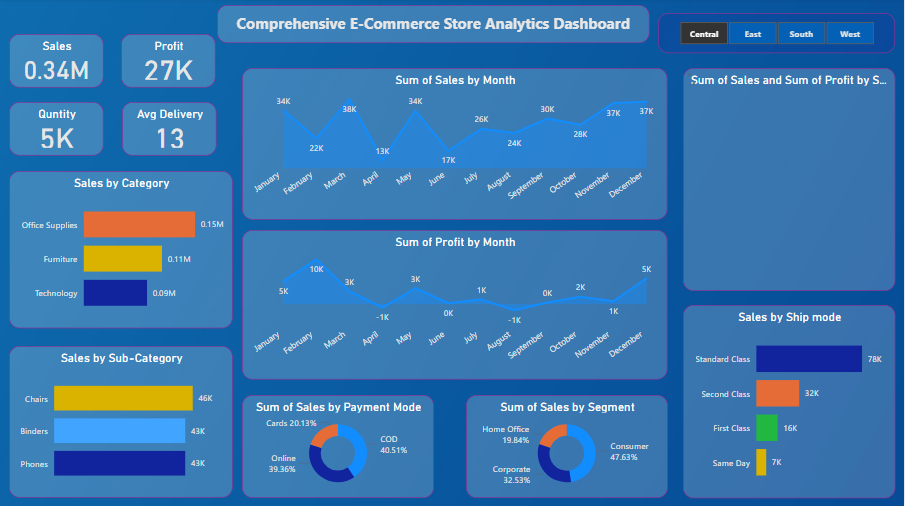

Layout of this report page (visuals, bound fields, positions):
{"tool":"powerbi","page":{"name":"Page 1","canvas":[1280,720],"ordinal":0},"visuals":[{"type":"clusteredBarChart","title":"Sales by Category","fields":{"Category":["SuperStore_Sales_Dataset.Category"],"Y":["Sum(SuperStore_Sales_Dataset.Sales)"]},"box":[13.4,245.2,317.5,223.4],"z":0},{"type":"clusteredBarChart","title":"Sales by Sub-Category","fields":{"Y":["Sum(SuperStore_Sales_Dataset.Sales)"],"Category":["SuperStore_Sales_Dataset.Sub-Category"]},"box":[13.4,493.9,317.5,215],"z":1000},{"type":"clusteredBarChart","title":"Sales by Ship mode","fields":{"Y":["Sum(SuperStore_Sales_Dataset.Sales)"],"Category":["SuperStore_Sales_Dataset.Ship Mode"]},"box":[967.6,435.1,300.7,273.8],"z":2000},{"type":"areaChart","fields":{"Category":["SuperStore_Sales_Dataset.Order Date.Variation.Date Hierarchy.Month"],"Y":["Sum(SuperStore_Sales_Dataset.Sales)"]},"box":[342.7,99.1,603,215],"z":3000},{"type":"areaChart","fields":{"Category":["SuperStore_Sales_Dataset.Order Date.Variation.Date Hierarchy.Month"],"Y":["Sum(SuperStore_Sales_Dataset.Profit)"]},"box":[342.7,329.2,603,211.7],"z":4000},{"type":"donutChart","fields":{"Category":["SuperStore_Sales_Dataset.Payment Mode"],"Y":["Sum(SuperStore_Sales_Dataset.Sales)"]},"box":[342.7,562.7,272.1,146.1],"z":5000},{"type":"donutChart","fields":{"Category":["SuperStore_Sales_Dataset.Segment"],"Y":["Sum(SuperStore_Sales_Dataset.Sales)"]},"box":[660.2,562.7,285.6,146.1],"z":6000},{"type":"card","title":"Sales","fields":{"Values":["Sum(SuperStore_Sales_Dataset.Sales)"]},"box":[13.4,50.4,134.4,75.6],"z":7000},{"type":"card","title":"Quntity","fields":{"Values":["Sum(SuperStore_Sales_Dataset.Quantity)"]},"box":[13.4,147.8,134.4,75.6],"z":8000},{"type":"card","title":"Profit","fields":{"Values":["Sum(SuperStore_Sales_Dataset.Profit)"]},"box":[171.3,50.4,134.4,75.6],"z":9000},{"type":"card","title":"Avg Delivery","fields":{"Values":["Avg(SuperStore_Sales_Dataset.AvgDelivery)"]},"box":[173,147.8,134.4,75.6],"z":10000},{"type":"map","fields":{"Series":["SuperStore_Sales_Dataset.Region"],"Size":["Sum(SuperStore_Sales_Dataset.Sales)"],"Category":["SuperStore_Sales_Dataset.State"]},"box":[967.6,99.1,300.7,315.8],"z":11000},{"type":"textbox","box":[307.4,10.1,613.1,53.8],"z":12000},{"type":"slicer","fields":{"Values":["SuperStore_Sales_Dataset.Region"]},"box":[932.3,21.8,336,57.1],"z":13000}]}

Visuals, with their boxes in screenshot pixels (x1, y1, x2, y2), scaled from the page's 1280x720 canvas onto the 905x506 screenshot:
"Sales by Category" clusteredBarChart: (9, 172, 234, 329)
"Sales by Sub-Category" clusteredBarChart: (9, 347, 234, 498)
"Sales by Ship mode" clusteredBarChart: (684, 306, 897, 498)
areaChart - SuperStore_Sales_Dataset.Order Date.Variation.Date Hierarchy.Month x Sum(SuperStore_Sales_Dataset.Sales): (242, 70, 669, 221)
areaChart - SuperStore_Sales_Dataset.Order Date.Variation.Date Hierarchy.Month x Sum(SuperStore_Sales_Dataset.Profit): (242, 231, 669, 380)
donutChart - SuperStore_Sales_Dataset.Payment Mode x Sum(SuperStore_Sales_Dataset.Sales): (242, 395, 435, 498)
donutChart - SuperStore_Sales_Dataset.Segment x Sum(SuperStore_Sales_Dataset.Sales): (467, 395, 669, 498)
"Sales" card: (9, 35, 104, 89)
"Quntity" card: (9, 104, 104, 157)
"Profit" card: (121, 35, 216, 89)
"Avg Delivery" card: (122, 104, 217, 157)
map - SuperStore_Sales_Dataset.Region x Sum(SuperStore_Sales_Dataset.Sales): (684, 70, 897, 292)
textbox: (217, 7, 651, 45)
slicer - SuperStore_Sales_Dataset.Region: (659, 15, 897, 55)
